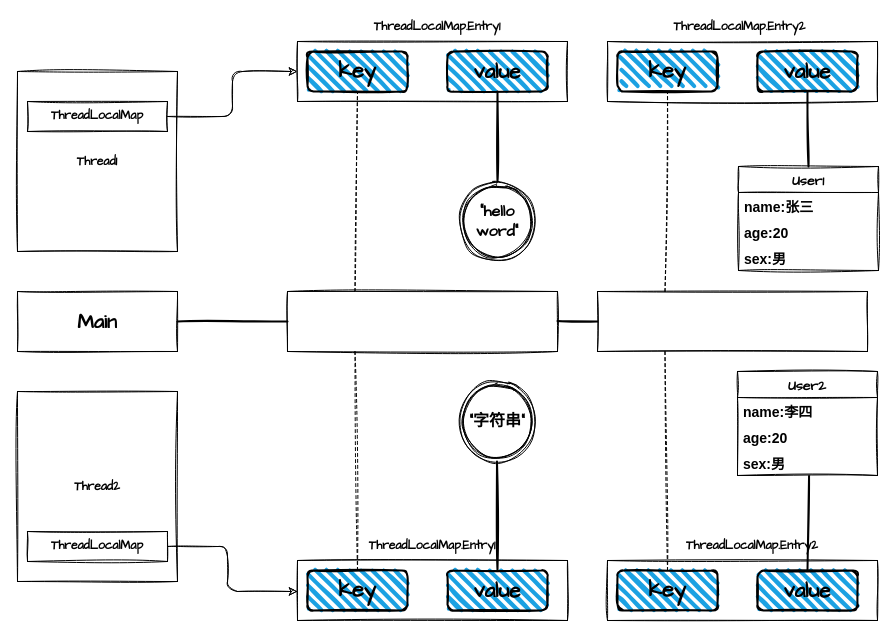
This 896x638 diagram has some shape labels left out. The centre of each missing label's shape, as x and y in pixels:
"ThreadLocal<String>" belongs at point (422, 321).
"ThreadLocal<User>" belongs at point (732, 321).
